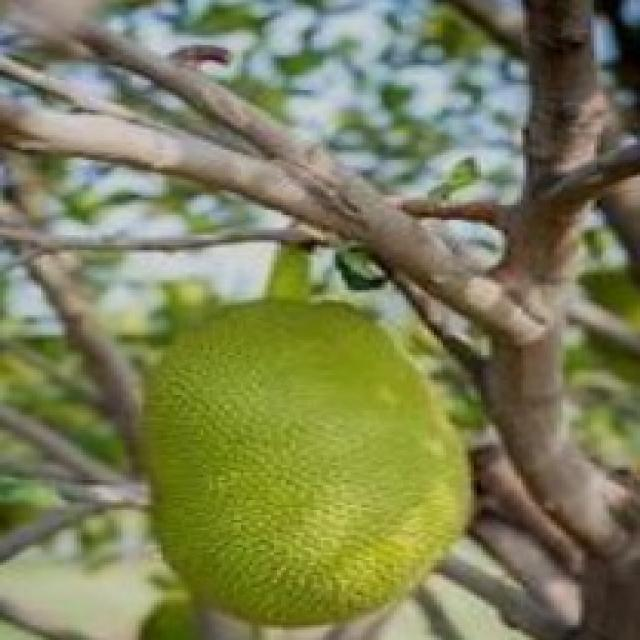Fruit: (105, 280, 508, 640)
